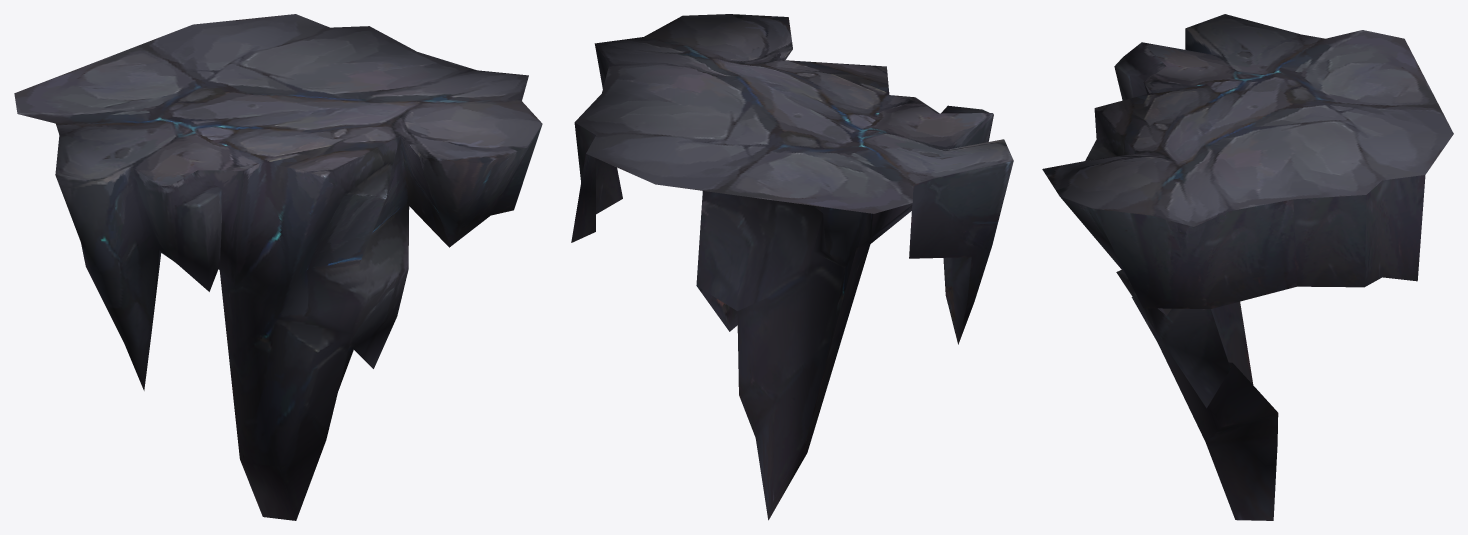
The model's file is fb_chisd_st_13_a.FBX.
3 renders of one model, left to right at view 1: azimuth 30°, elevation 25°; view 2: azimuth 150°, elevation 25°; view 3: azimuth 270°, elevation 25°, orthographic. The views are drawn at different scales.
Parts seen in each view (by area): view 1: fb_chisd_st_13_a; view 2: fb_chisd_st_13_a; view 3: fb_chisd_st_13_a.
Boxes of the visible parts, <box> form: fb_chisd_st_13_a: <box>14,14,542,520</box>; fb_chisd_st_13_a: <box>571,14,1013,520</box>; fb_chisd_st_13_a: <box>1042,14,1453,520</box>.
Size of the model in its own units: 540 by 482 by 441.
